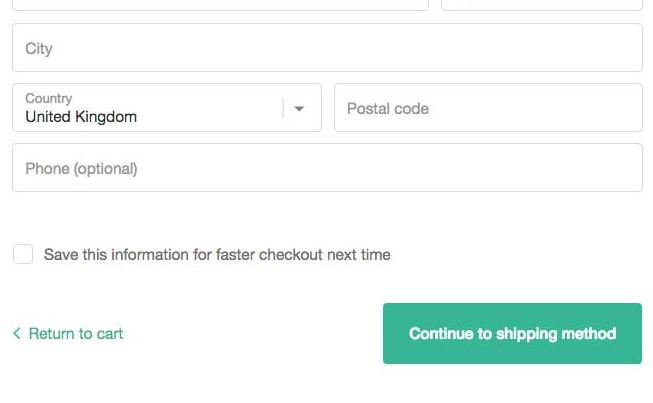button: (382, 302, 642, 365)
checkbox: (11, 243, 36, 267)
checkbox_with_label: (3, 238, 400, 271)
field: (11, 142, 643, 194), (10, 22, 645, 73), (11, 81, 321, 132), (333, 82, 645, 131)
